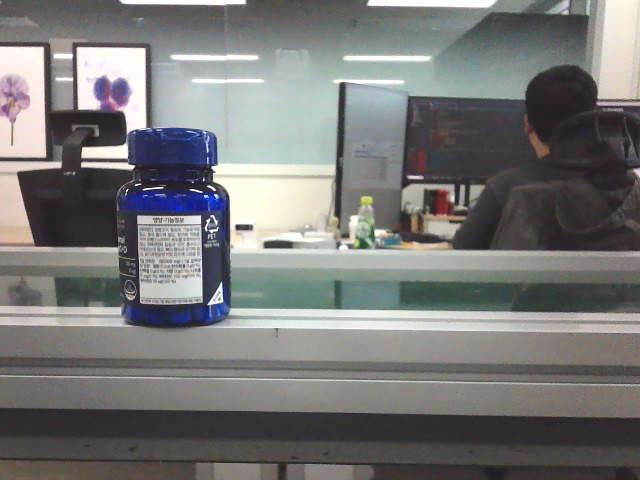labeled: (112, 124, 234, 332)
